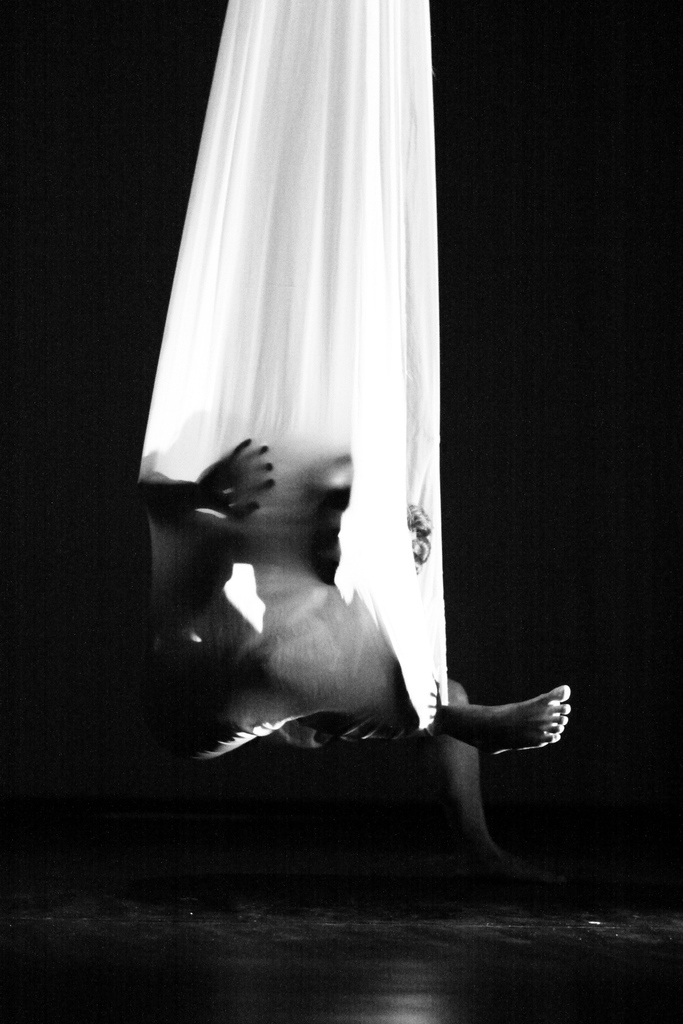Human_hand: (190, 431, 281, 520)
